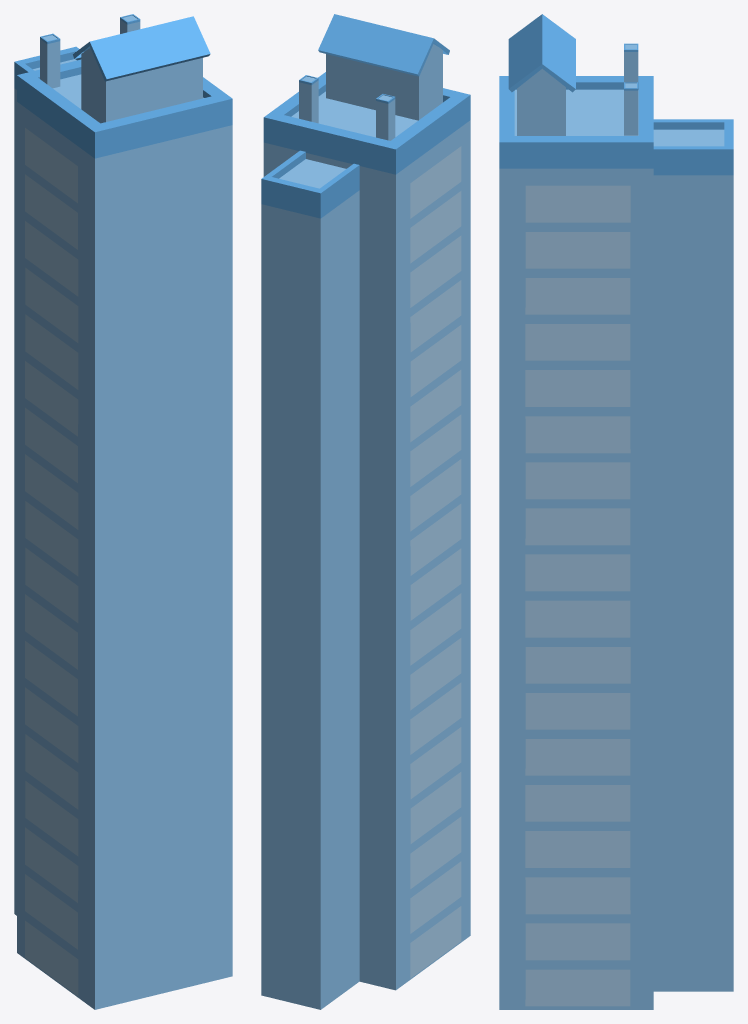
File: house_1wind.fbx
3 views of the same model, side by side, from view 1: azimuth 30°, elevation 25°; view 2: azimuth 150°, elevation 25°; view 3: azimuth 270°, elevation 25° (orthographic). The views are drawn at different scales.
Visible parts, largest first — view 1: house_1wind; view 2: house_1wind; view 3: house_1wind.
Part boxes in pixels (<box>): house_1wind: <box>14,14,232,1009</box>; house_1wind: <box>261,14,470,1009</box>; house_1wind: <box>499,14,733,1009</box>.
Size of the model in its own units: 32.34 by 205 by 46.4.
